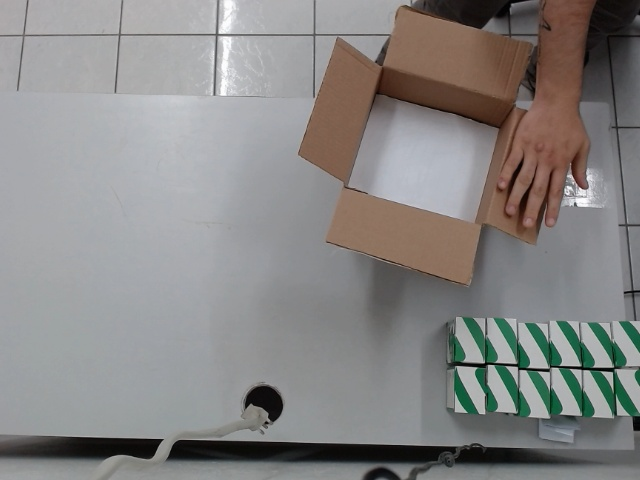caixa_principal: (290, 5, 561, 289)
